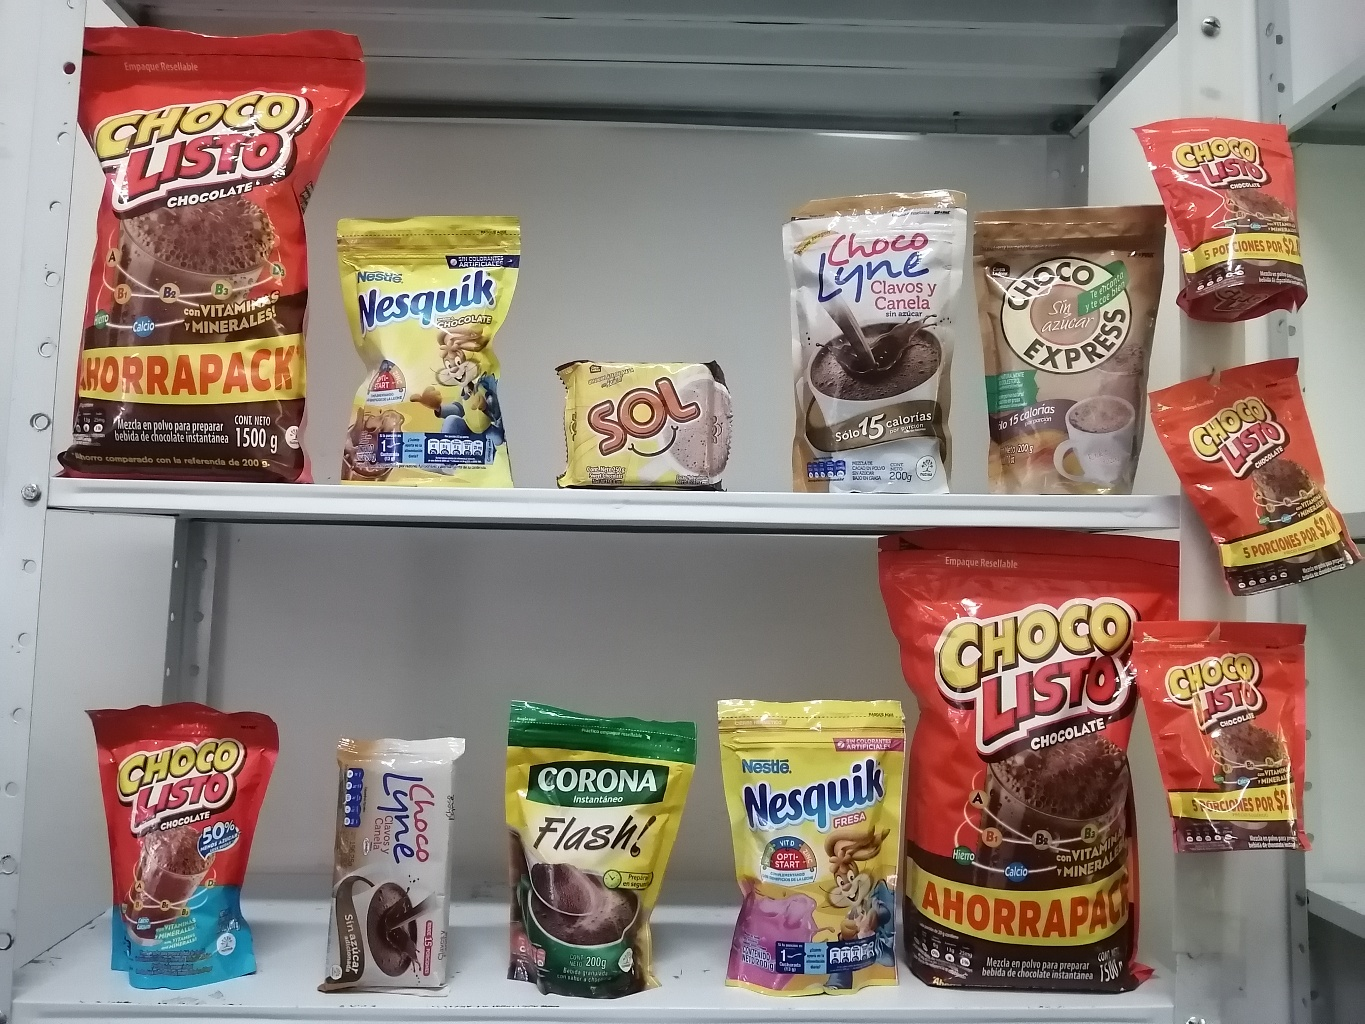COL0170104DYP20000: (79, 680, 303, 1005)
